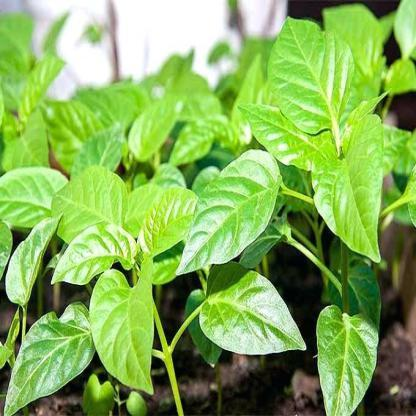Bell_pepper leaf spot: (172, 150, 283, 268), (268, 13, 358, 138), (198, 258, 310, 354), (5, 300, 98, 415), (310, 138, 390, 268), (92, 258, 156, 398), (314, 302, 380, 416), (46, 162, 128, 238), (5, 208, 64, 308), (44, 223, 140, 278), (142, 185, 199, 263)
